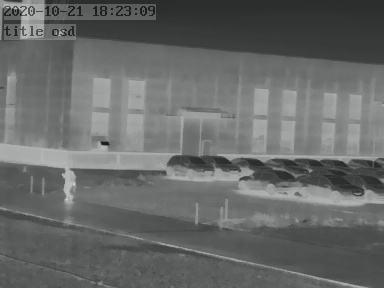person: (64, 166, 77, 201)
vehicle: (300, 171, 362, 201), (239, 169, 304, 192), (165, 153, 213, 179), (347, 174, 384, 201), (204, 153, 243, 177), (235, 155, 272, 172), (262, 156, 301, 171), (347, 156, 377, 170), (296, 156, 324, 169), (318, 157, 347, 169)
